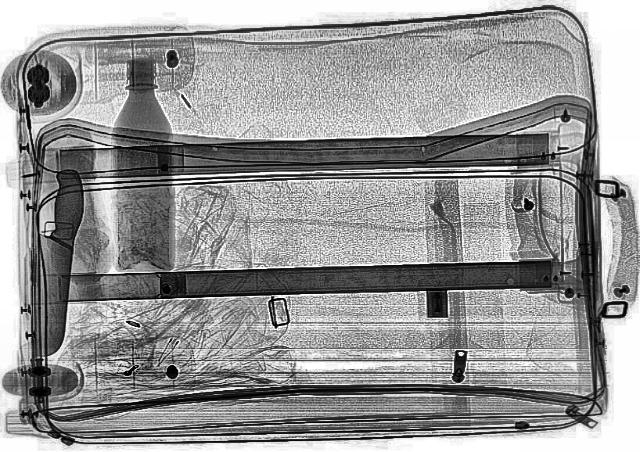Knife: (23, 168, 86, 356)
